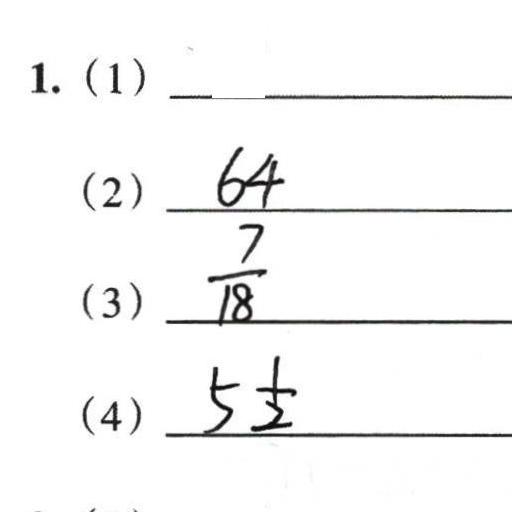ans: (199, 351, 297, 434), (203, 217, 268, 327), (211, 140, 284, 209)
